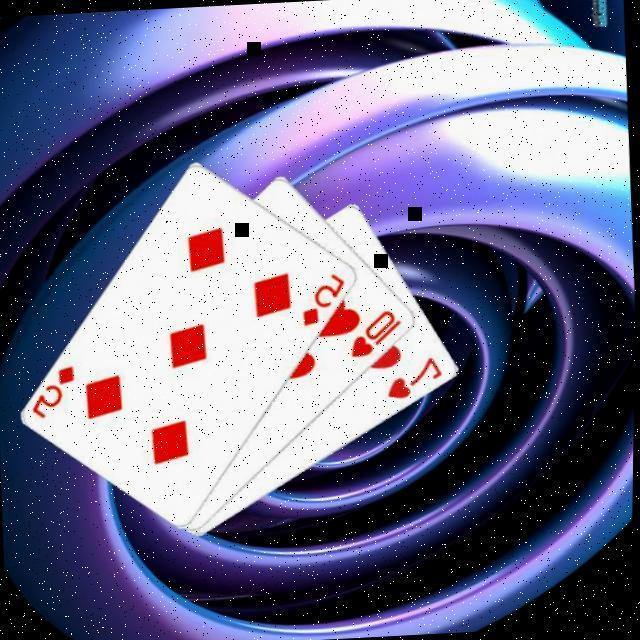10H: (348, 307, 410, 361)
5D: (30, 362, 84, 424), (300, 270, 354, 330)
7H: (386, 354, 450, 403)
